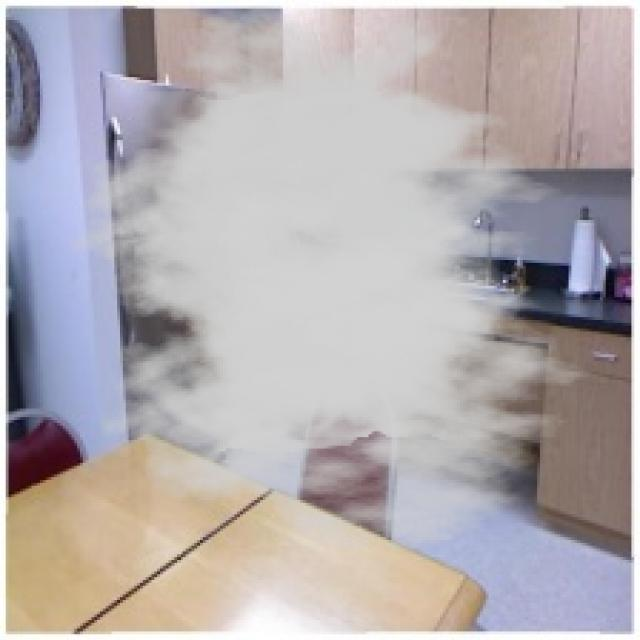Smoke: (57, 2, 617, 552)
